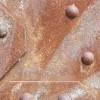rust: (34, 1, 82, 61), (73, 50, 98, 82), (56, 4, 91, 23)
